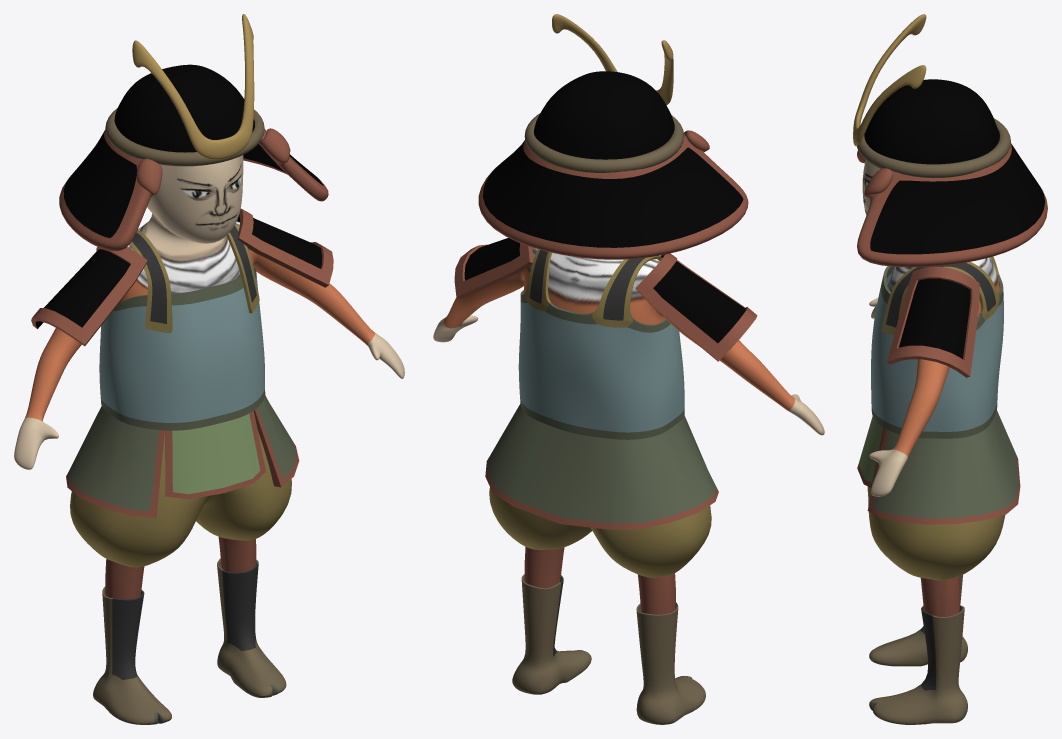
The model's file is samurai.fbx.
3 views of the same model, side by side, from view 1: azimuth 30°, elevation 25°; view 2: azimuth 150°, elevation 25°; view 3: azimuth 270°, elevation 25° (orthographic). The views are drawn at different scales.
Visible parts, largest first — view 1: Cuirass, Main, Helmet, Thigh_Guard, Main.001, Boots, Shoulder_Guard, Helmet_Decoration, Helmet_Rope; view 2: Helmet, Cuirass, Thigh_Guard, Main, Boots, Shoulder_Guard, Main.001, Helmet_Rope, Helmet_Decoration; view 3: Helmet, Thigh_Guard, Cuirass, Boots, Shoulder_Guard, Main, Main.001, Helmet_Rope, Helmet_Decoration.
Boxes of the visible parts, x1,y1,x2,y2 form: Cuirass: (99,224,265,430); Main: (14,155,404,599); Helmet: (59,64,328,250); Thigh_Guard: (66,395,299,517); Main.001: (70,430,291,567); Boots: (93,558,286,724); Shoulder_Guard: (31,208,333,346); Helmet_Decoration: (132,14,254,159); Helmet_Rope: (105,108,264,166); Helmet: (478,71,748,259); Cuirass: (518,249,684,439); Thigh_Guard: (485,404,718,529); Main: (433,247,824,614); Boots: (512,574,705,724); Shoulder_Guard: (454,238,757,361); Main.001: (489,487,711,577); Helmet_Rope: (524,113,684,172); Helmet_Decoration: (552,14,673,105); Helmet: (857,79,1047,267); Thigh_Guard: (857,410,1020,524); Cuirass: (871,256,1003,438); Boots: (869,575,967,724); Shoulder_Guard: (887,266,979,377); Main: (862,160,999,616); Main.001: (867,486,1005,580); Helmet_Rope: (857,118,1010,177); Helmet_Decoration: (853,14,926,146).
Size of the model in its own units: 114 by 186 by 50.86.
